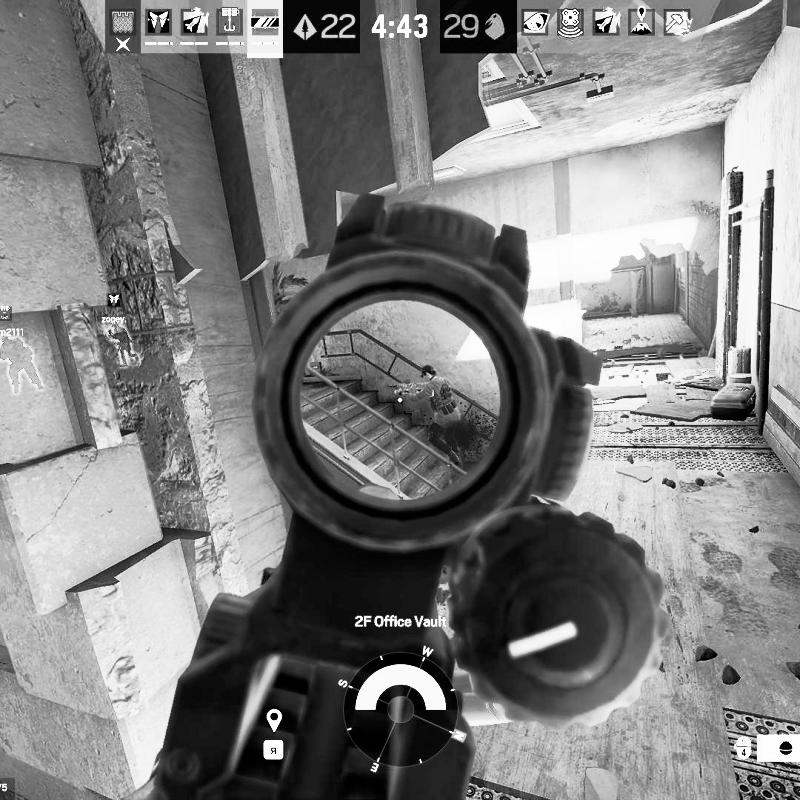Character: (389, 364, 465, 469)
Friend_label: (100, 292, 130, 324), (0, 303, 26, 337)
Head: (420, 364, 436, 381)
